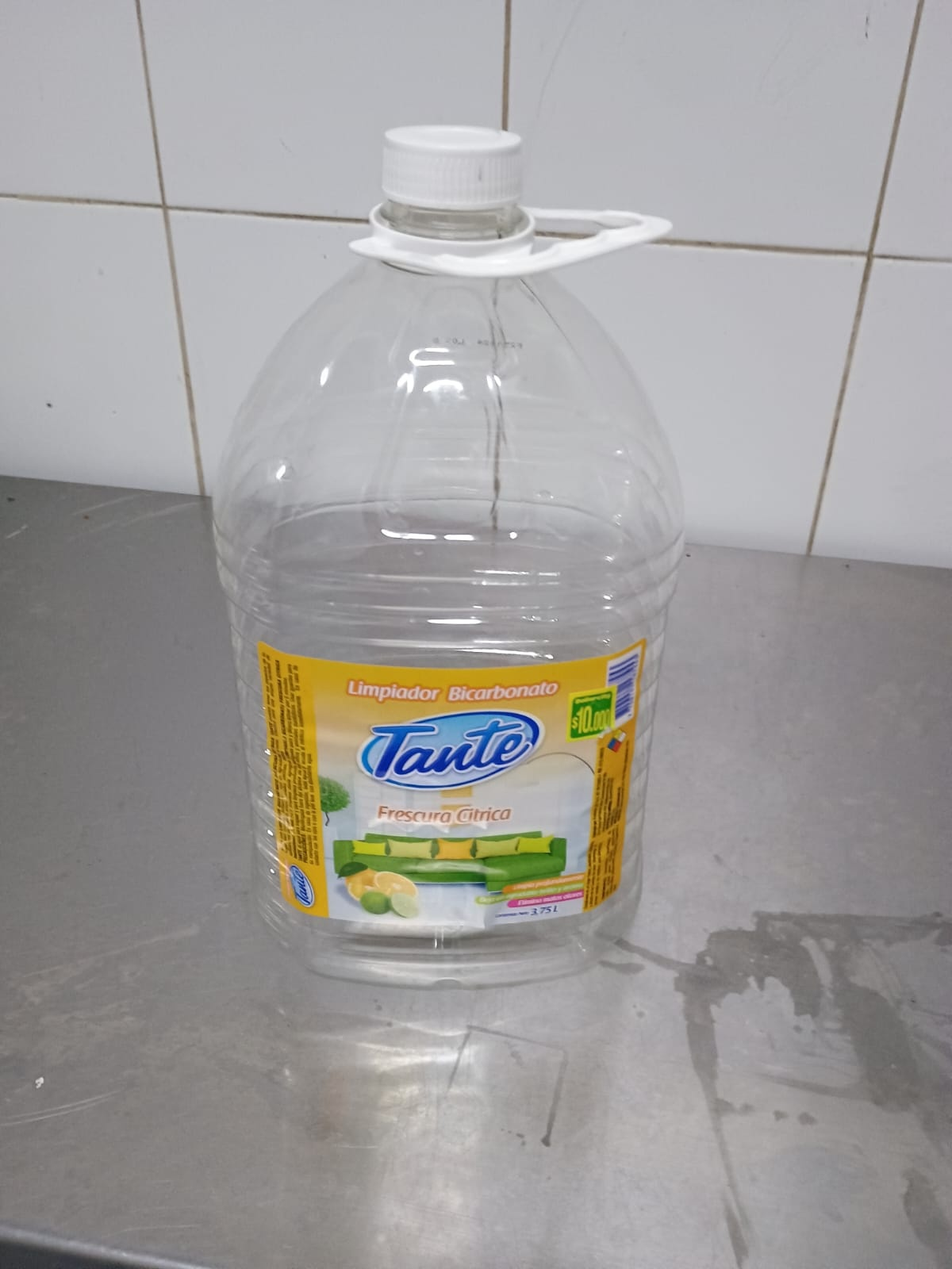Plastico: (207, 124, 687, 984)
